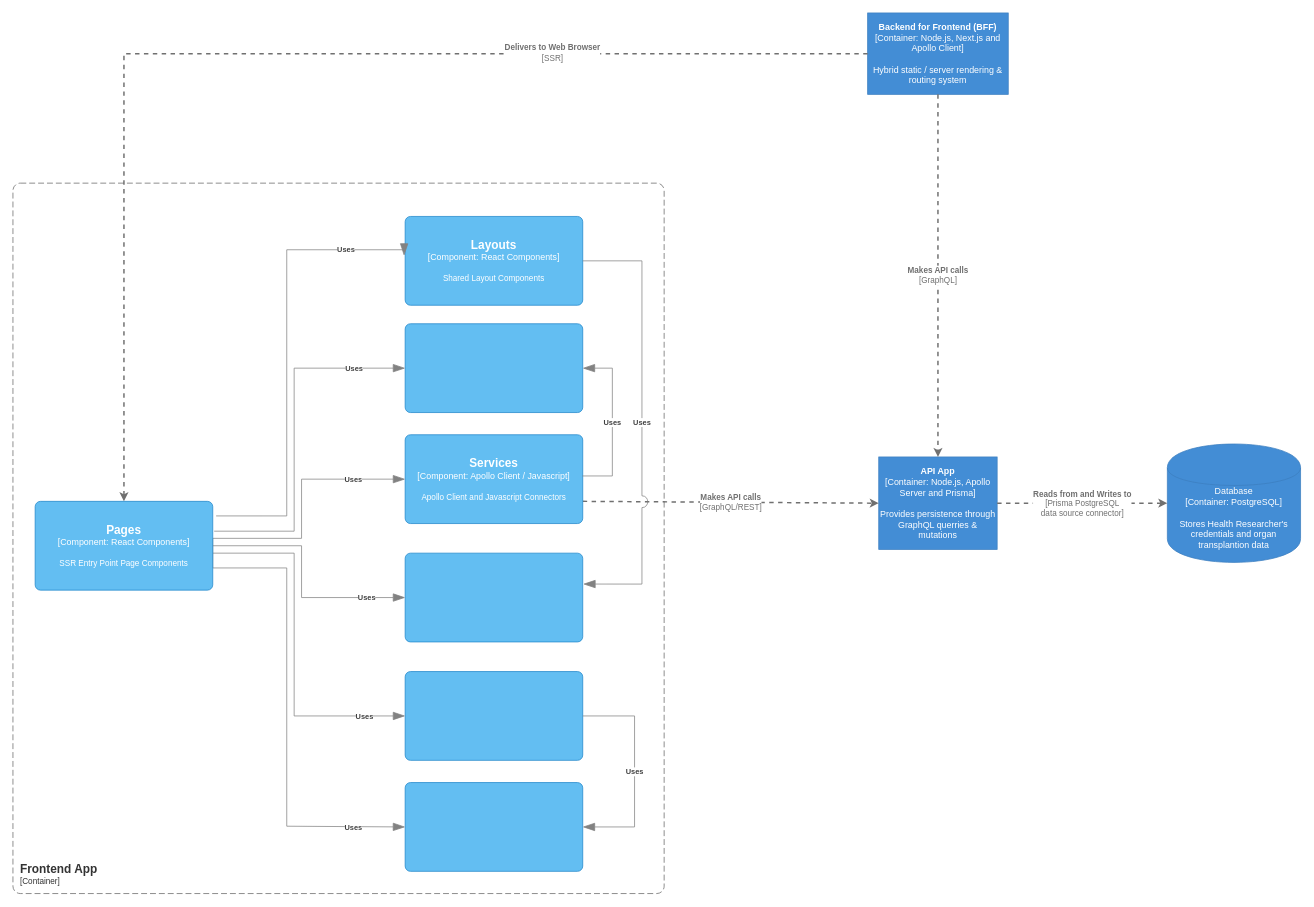
This 1314x907 diagram has some shape labels left out. Each missing label, with the centre of its shape:
Components [Component: React components] React Shared Components: the point at 493,715
Config [Component: Javascript Configs] Javascript shared config files: the point at 493,368
Contexts [Component: React Context API] App Shared State Components: the point at 493,597
Lib [Component: Native Javascript Code] Javascript Utils and Tools: the point at 493,826
